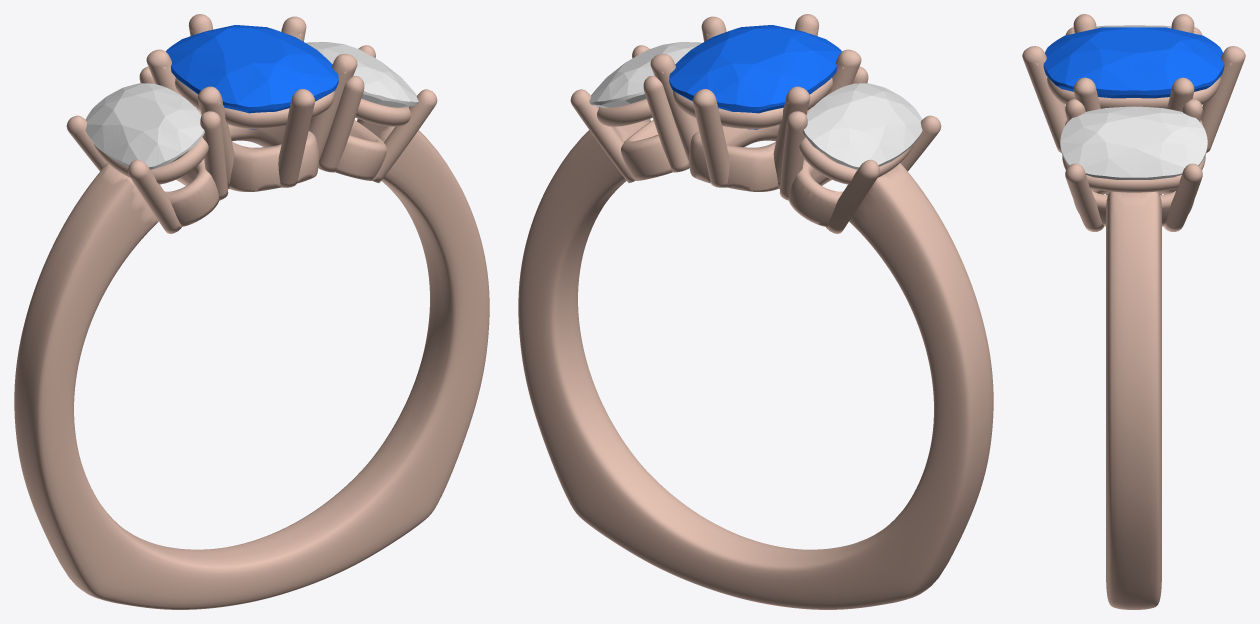
File: bluesapphire-cushion-rosegold-6prong-europeanshank-3stone.glb
3 renders of one model, left to right at view 1: azimuth 30°, elevation 25°; view 2: azimuth 150°, elevation 25°; view 3: azimuth 270°, elevation 25°, orthographic. The views are drawn at different scales.
Visible parts, largest first — view 1: metal.003, stone.002, side.004, side.005; view 2: metal.003, stone.002, side.004, side.005; view 3: metal.003, stone.002, side.005.
Part boxes in pixels (bbox=[...]): metal.003: bbox=[14, 14, 489, 609]; stone.002: bbox=[166, 25, 338, 129]; side.004: bbox=[85, 83, 204, 169]; side.005: bbox=[306, 42, 418, 107]; metal.003: bbox=[518, 14, 993, 609]; stone.002: bbox=[669, 25, 841, 129]; side.004: bbox=[803, 83, 922, 169]; side.005: bbox=[589, 42, 701, 107]; metal.003: bbox=[1022, 14, 1245, 609]; stone.002: bbox=[1043, 27, 1224, 98]; side.005: bbox=[1060, 106, 1207, 179].
Size of the model in its own units: 20.11 by 23.04 by 8.8.
